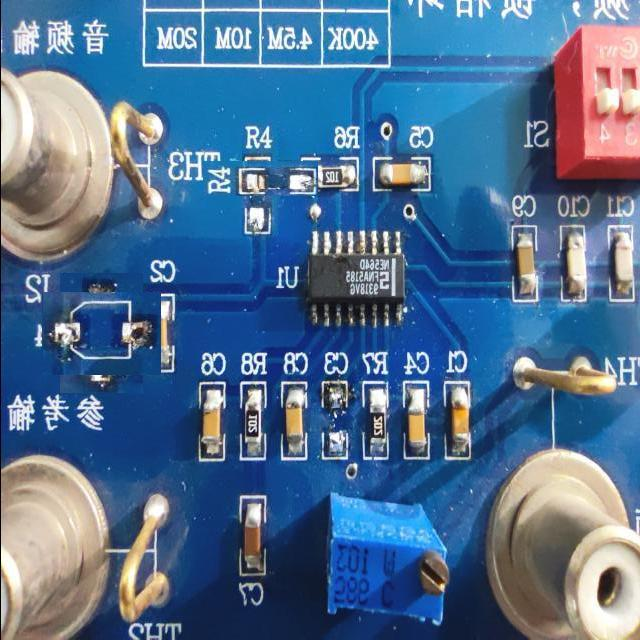miss_welding: (51, 283, 152, 384), (223, 141, 298, 216), (319, 348, 353, 464)
